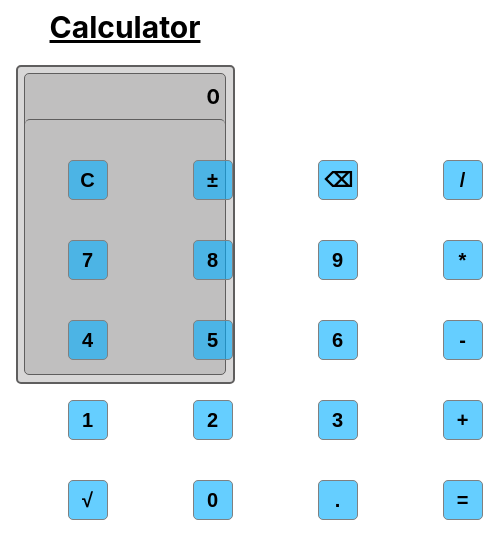
Test: Calculator Page › dot is added when clicked
Click the button "1" at [88, 420], box [68,400,108,440]
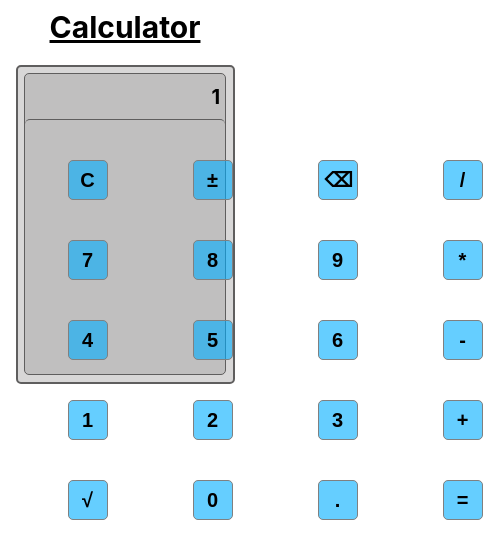
Click the button with id "dot" at [338, 500], box [318,480,358,520]
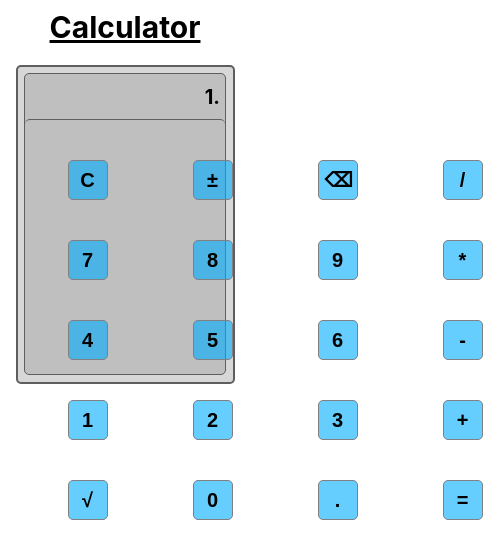
Click the button "4" at [88, 340], box [68,320,108,360]
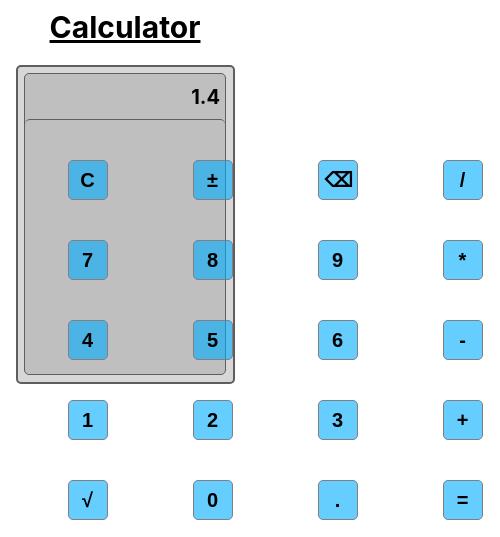
Expected: the text "1.4" is shown, [191,85,220,109]
